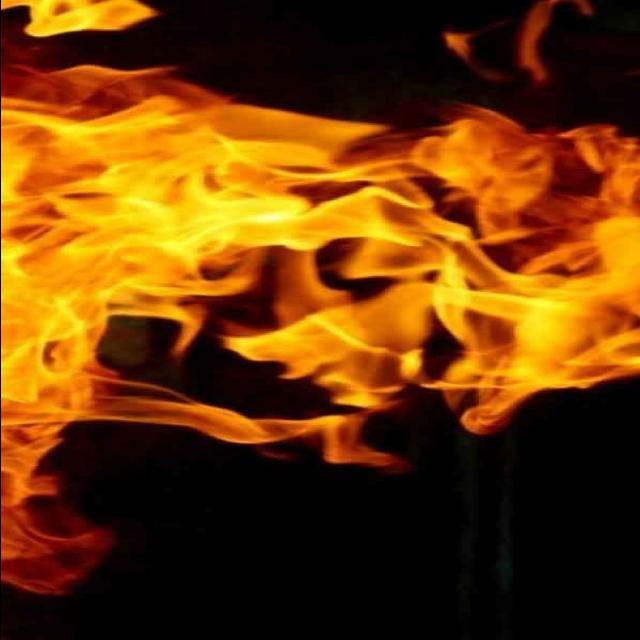Fire: (16, 48, 632, 582)
